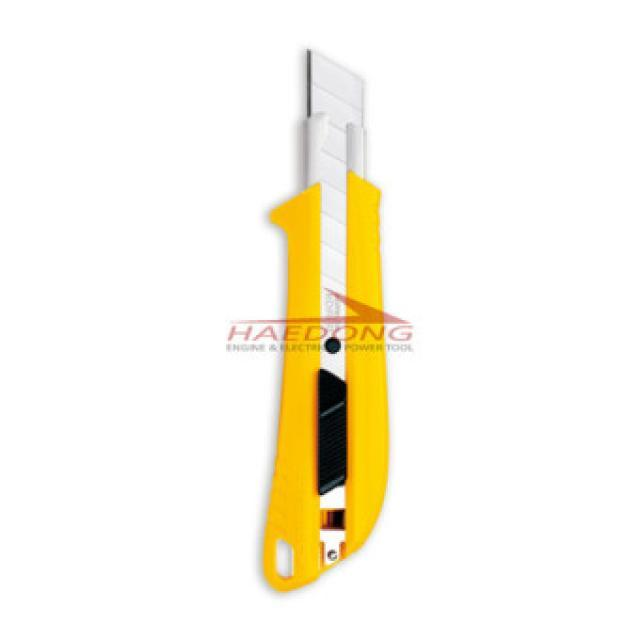cutter: (245, 37, 404, 596)
